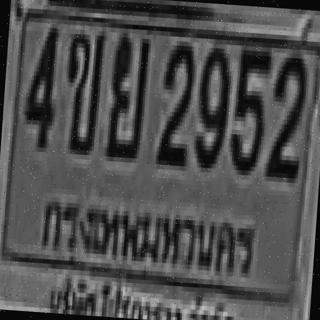A02: (61, 27, 104, 149)
A34: (104, 28, 150, 158)
N02: (263, 48, 306, 178), (156, 38, 194, 164)
N04: (22, 22, 57, 148)
N05: (226, 40, 270, 172)
N09: (192, 40, 231, 167)
P04: (37, 184, 262, 290)
